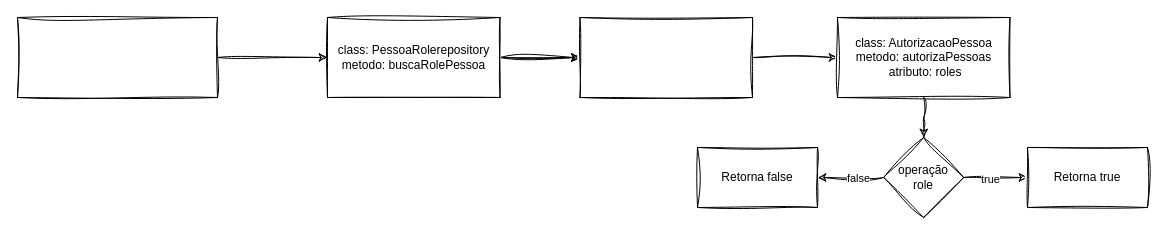
This 1165x235 diagram has some shape labels left out. Each missing label, with the centre of its shape:
"class: AutorizacaoPessoa.java metodo: autorizaPessoas" goes at point 117,57.
"Tipo: String Lista de Roles" goes at point 665,57.
